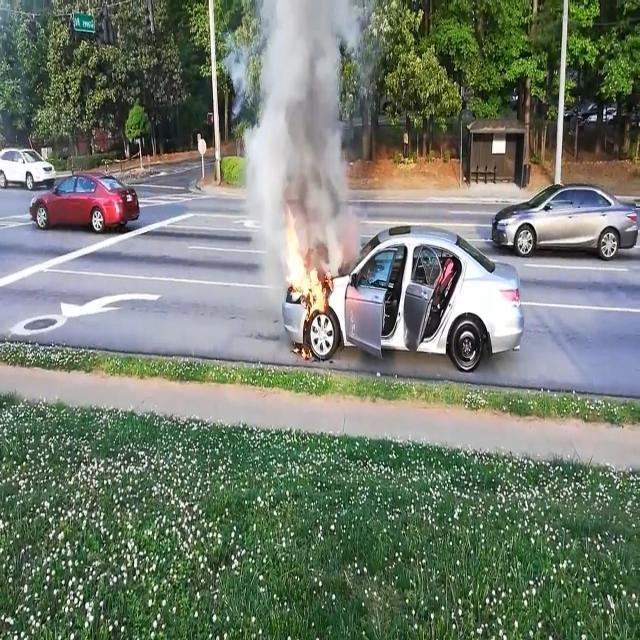fire: (279, 203, 339, 362)
